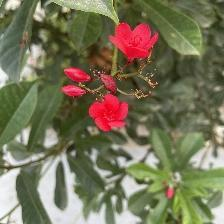jatropha: (110, 19, 160, 65), (90, 94, 131, 137)
